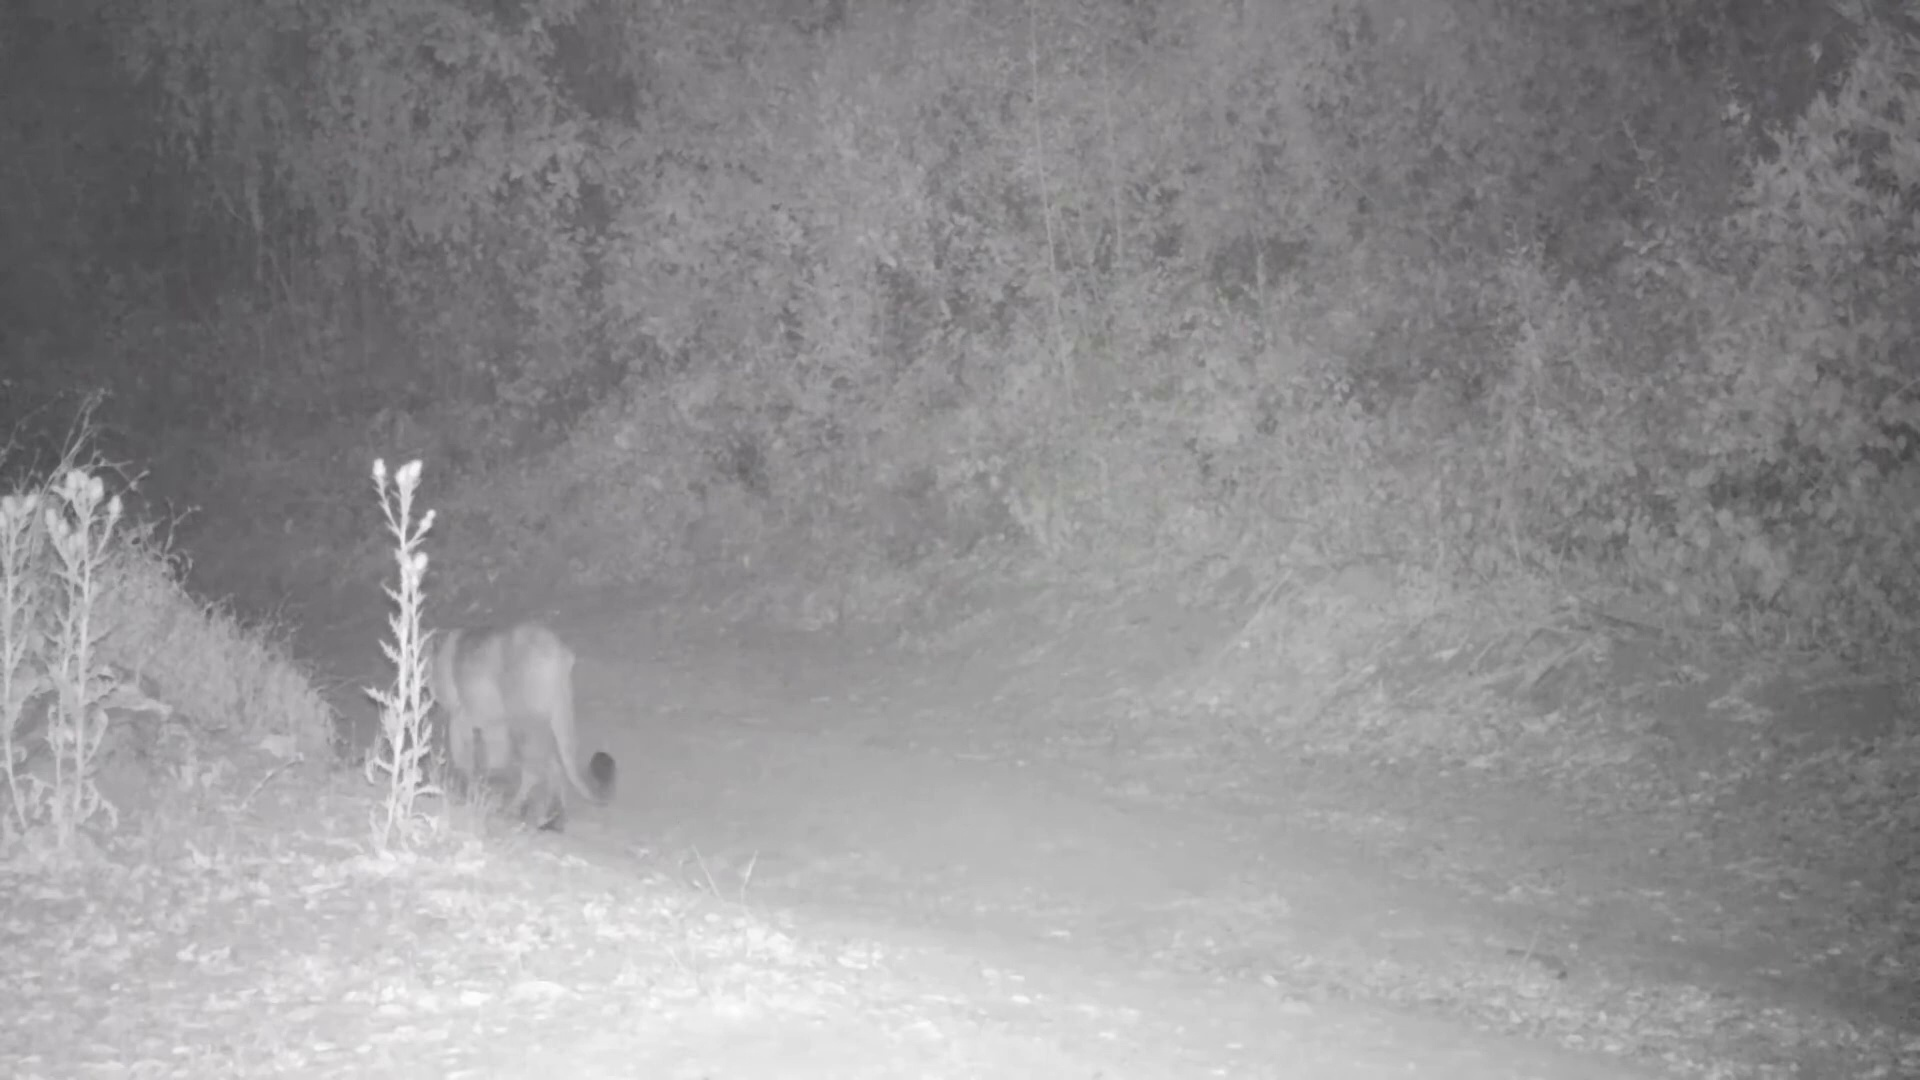Lion: (406, 616, 616, 832)
